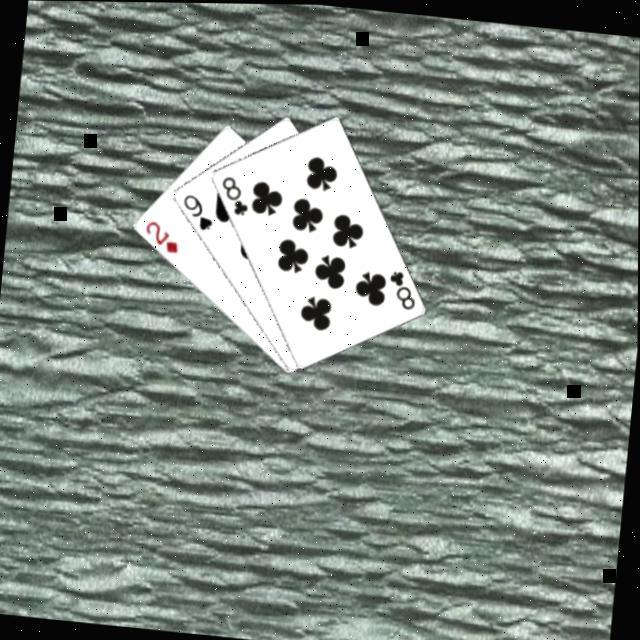2D: (140, 217, 183, 257)
8C: (216, 172, 255, 219), (384, 265, 422, 312)
9S: (178, 190, 218, 233)
